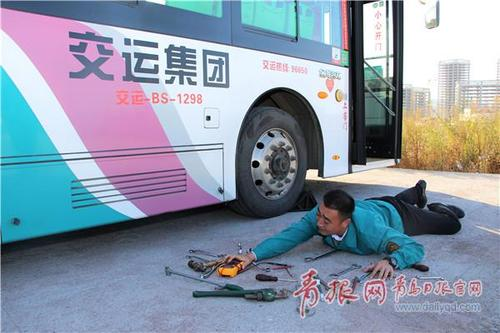fall: (189, 165, 476, 284)
